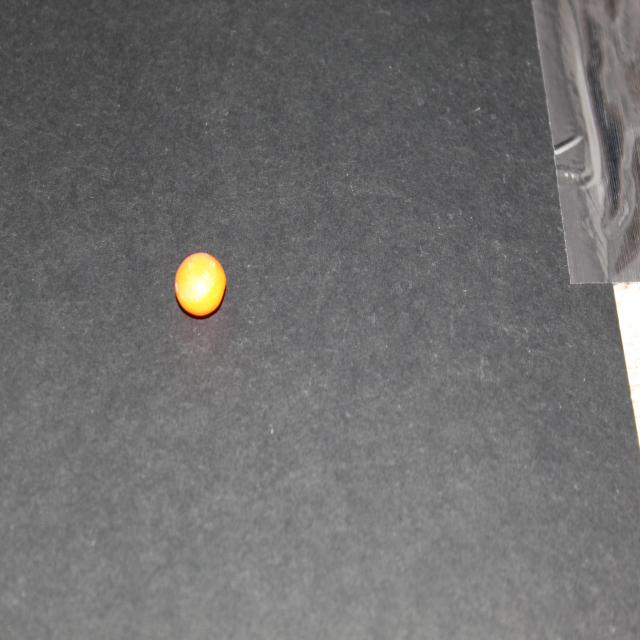smartie: (174, 252, 226, 316)
